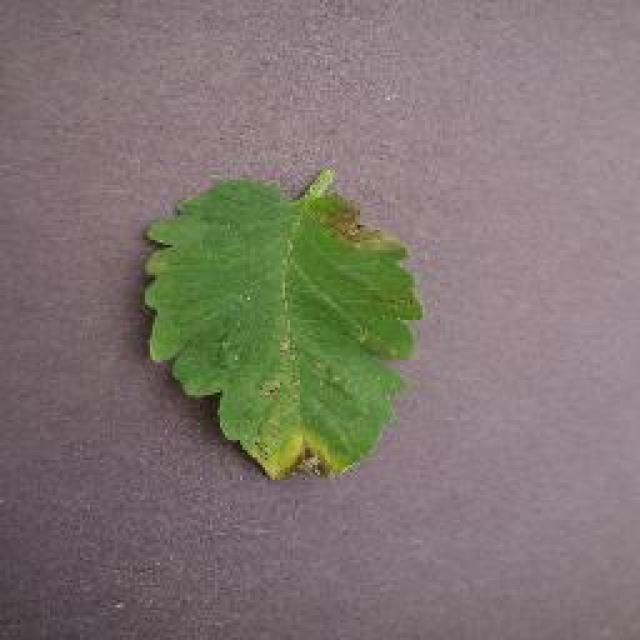Tomato___Late_blight: (145, 168, 422, 484)
